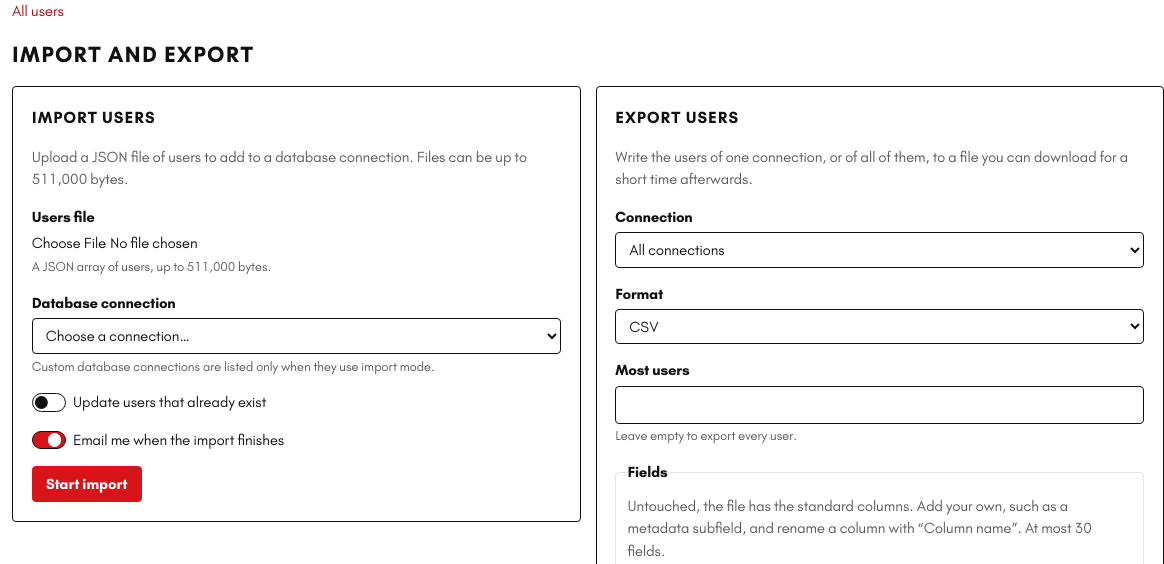
Test: export form › refuses the limit -3
Type "-3" into the field with id "export-limit" at (880, 404), box [615,386,1144,424]
(page scrolled)
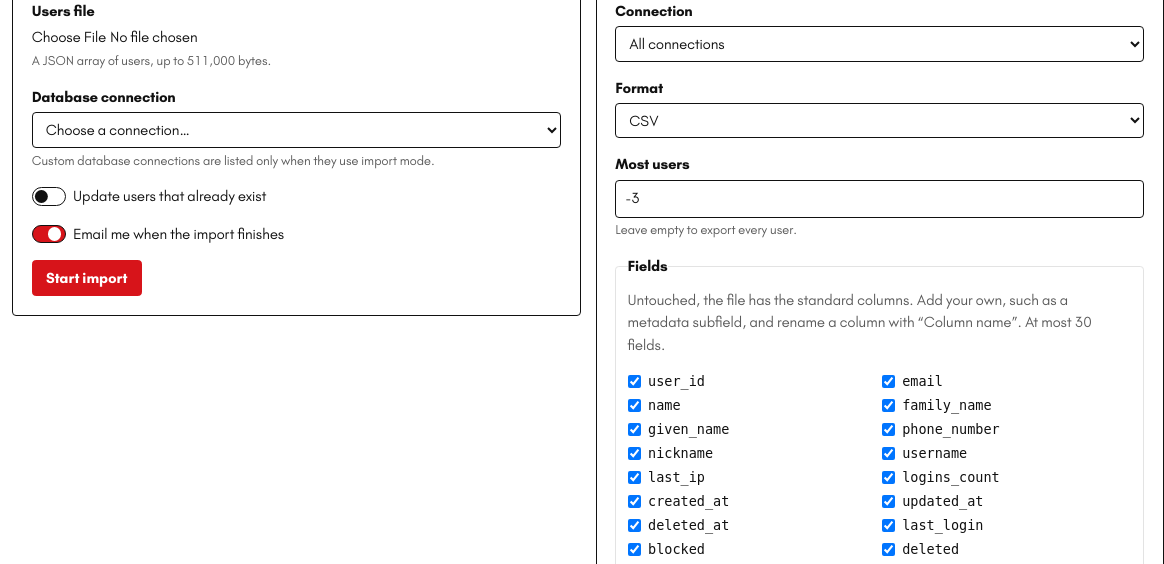
Submit the form that starts with "Connection"
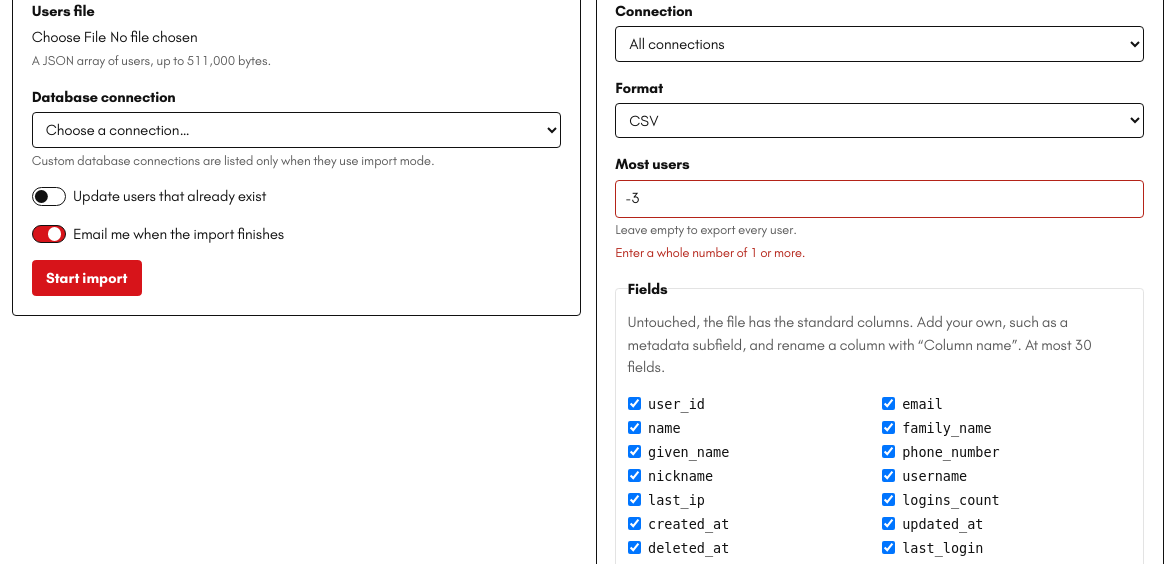
Expected: the message with id "export-limit-error" shows "whole number", [615,245,806,260]
